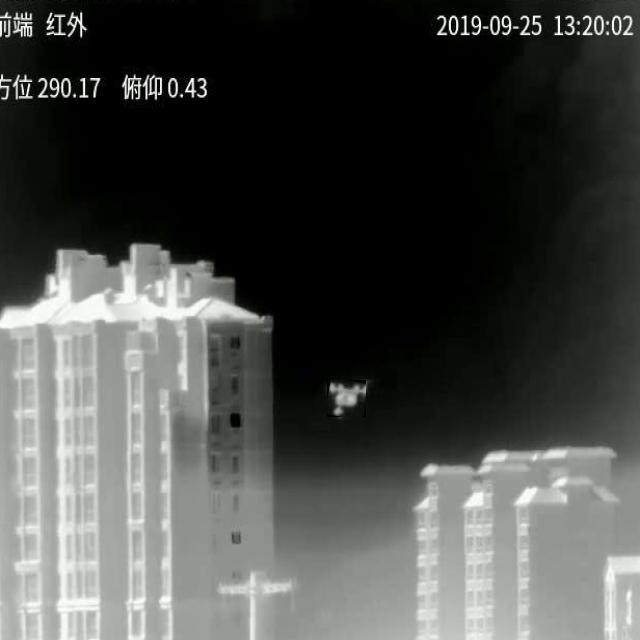drone: (329, 383, 366, 415)
